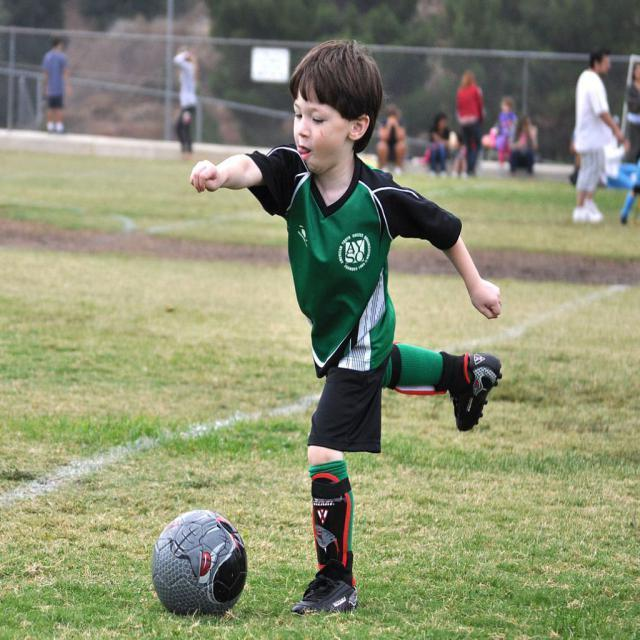football: (128, 493, 259, 617)
